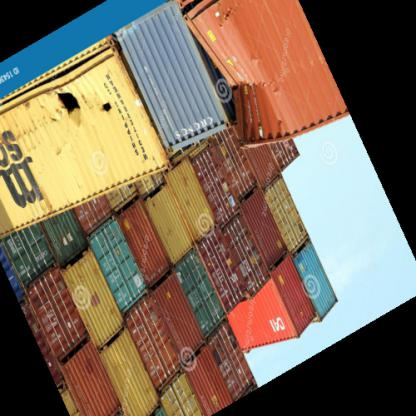Damage: (40, 81, 124, 135), (216, 76, 264, 143)
